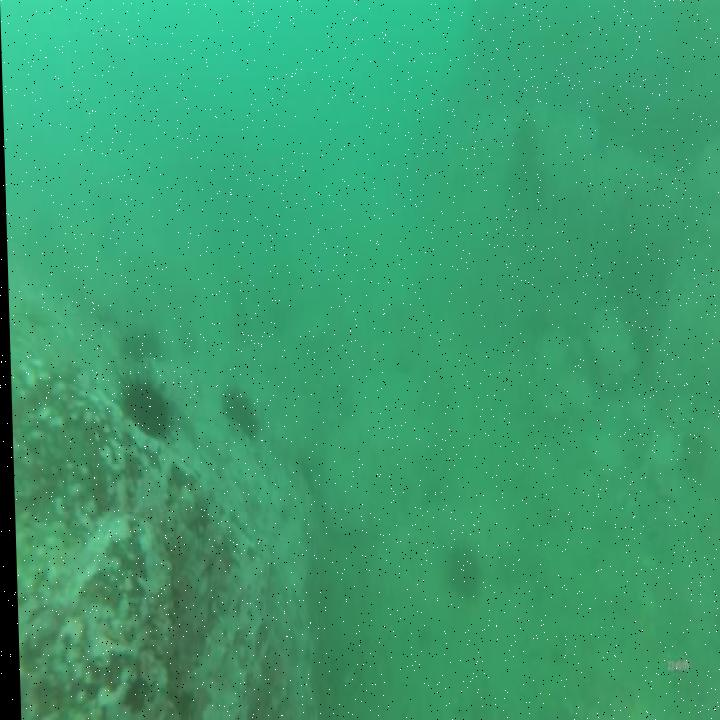echinus: (110, 364, 177, 441), (216, 380, 259, 441), (442, 538, 480, 604), (115, 327, 161, 373), (508, 110, 542, 166)
